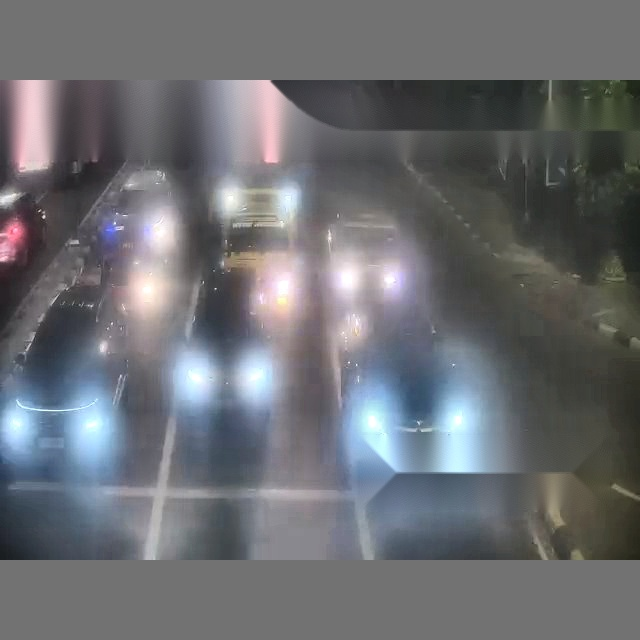Mobil: (0, 192, 45, 268)
